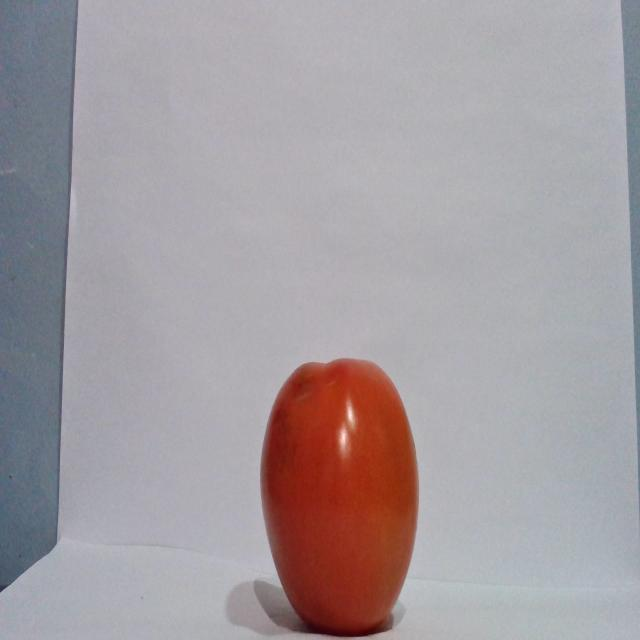Red: (258, 356, 420, 635)
